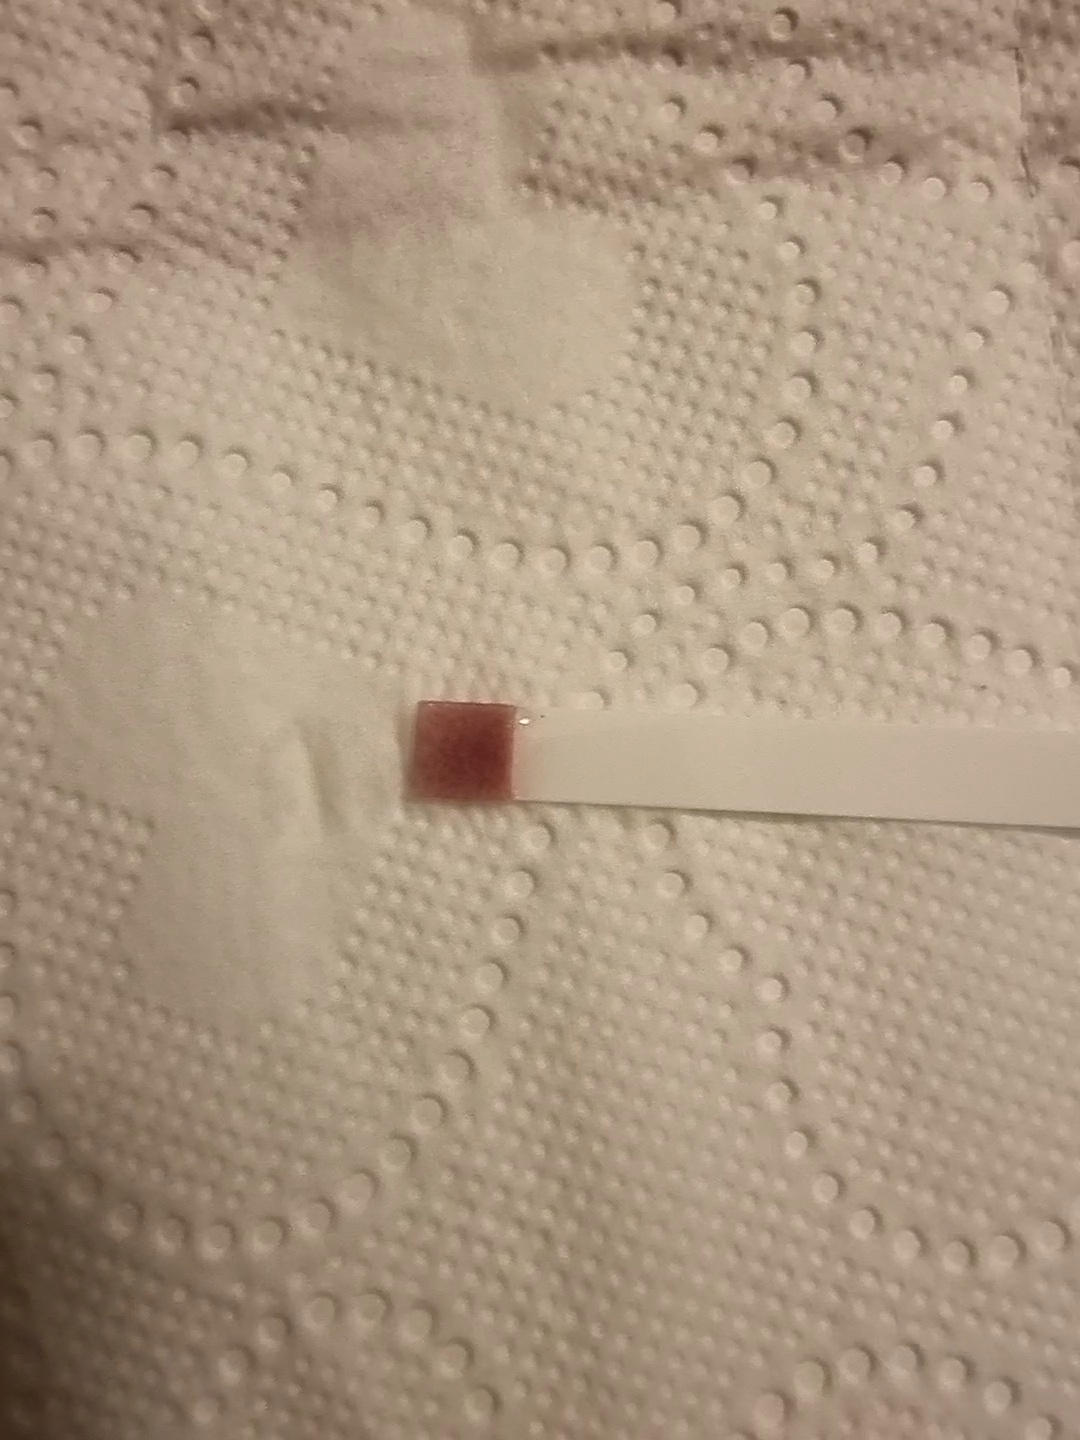keto-tip: (400, 691, 526, 816)
